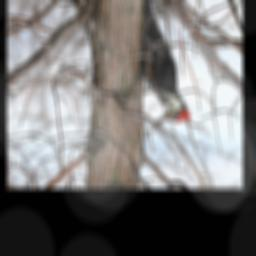Woodpecker: (137, 0, 191, 127)
